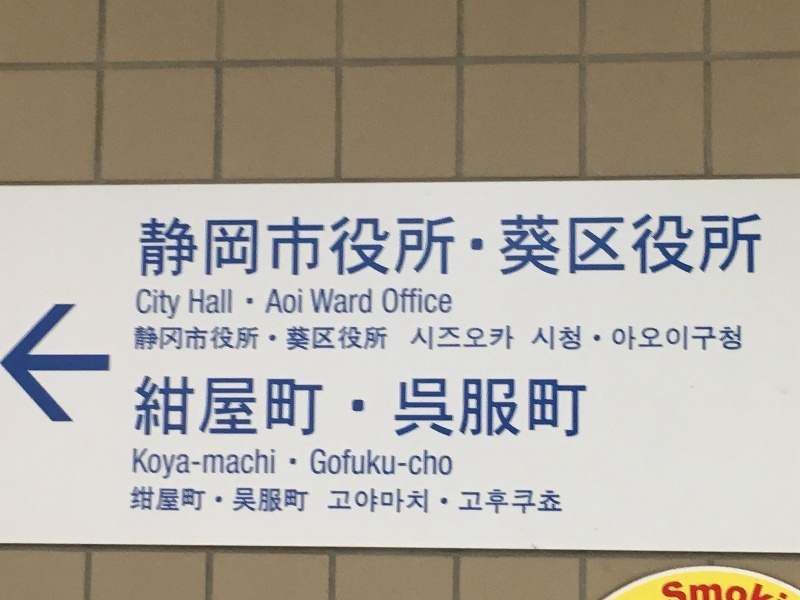text: (513, 213, 528, 276), (529, 213, 544, 276), (545, 213, 560, 276), (561, 213, 576, 276), (577, 213, 592, 276), (593, 213, 608, 276), (609, 213, 624, 276), (625, 213, 640, 276), (641, 213, 656, 276), (657, 213, 672, 276), (673, 213, 688, 276), (689, 213, 704, 276), (705, 213, 720, 276), (721, 213, 736, 276), (737, 213, 752, 276), (145, 375, 160, 437), (161, 375, 176, 437), (177, 375, 192, 437), (193, 375, 208, 437), (209, 375, 224, 437), (225, 375, 240, 437), (241, 375, 256, 437), (257, 375, 272, 437), (273, 375, 288, 437), (289, 375, 304, 437), (305, 375, 320, 437), (145, 216, 160, 277), (161, 216, 176, 277), (177, 216, 192, 277), (193, 216, 208, 277), (209, 216, 224, 277), (225, 216, 240, 277), (241, 216, 256, 277), (257, 216, 272, 277), (273, 216, 288, 277), (289, 216, 304, 277), (305, 216, 320, 277), (321, 216, 336, 277), (337, 216, 352, 277), (353, 216, 368, 277), (369, 216, 384, 277), (385, 216, 400, 277), (401, 216, 416, 277), (417, 216, 432, 277), (433, 216, 448, 277), (401, 378, 416, 436), (417, 378, 432, 436), (433, 378, 448, 436), (449, 378, 464, 436), (465, 378, 480, 436), (481, 378, 496, 436), (497, 378, 512, 436), (513, 378, 528, 436), (529, 378, 544, 436), (545, 378, 560, 436), (561, 378, 576, 436), (501, 213, 512, 276), (753, 213, 762, 276), (135, 375, 144, 437), (577, 378, 586, 436), (449, 216, 457, 277), (145, 288, 160, 319), (161, 288, 176, 319), (145, 448, 160, 479), (161, 448, 176, 479), (177, 448, 192, 479), (193, 448, 208, 479), (209, 448, 224, 479), (225, 448, 240, 479), (241, 448, 256, 479), (257, 448, 272, 479), (321, 449, 336, 477), (337, 449, 352, 477), (353, 449, 368, 477), (369, 449, 384, 477), (385, 449, 400, 477), (401, 449, 416, 477), (417, 449, 432, 477), (433, 449, 448, 477), (321, 288, 336, 314), (337, 288, 352, 314), (353, 288, 368, 314), (465, 489, 480, 515), (481, 489, 496, 515), (497, 489, 512, 515), (513, 489, 528, 515), (529, 489, 544, 515), (545, 489, 560, 515), (193, 288, 208, 313), (209, 288, 224, 313), (273, 289, 288, 314), (385, 288, 400, 313), (401, 288, 416, 313), (417, 288, 432, 313), (433, 288, 448, 313), (289, 326, 304, 351), (305, 326, 320, 351), (321, 326, 336, 351), (337, 326, 352, 351), (353, 326, 368, 351), (369, 326, 384, 351), (625, 325, 640, 350), (641, 325, 656, 350), (657, 325, 672, 350), (673, 325, 688, 350), (689, 325, 704, 350), (705, 325, 720, 350), (721, 325, 736, 350), (145, 486, 160, 511), (161, 486, 176, 511), (177, 486, 192, 511), (241, 488, 256, 513), (257, 488, 272, 513), (273, 488, 288, 513), (289, 488, 304, 513), (145, 326, 160, 350), (161, 326, 176, 350), (177, 326, 192, 350), (193, 326, 208, 350), (209, 326, 224, 350), (225, 326, 240, 350), (241, 326, 256, 350), (417, 326, 432, 350), (433, 326, 448, 350), (449, 326, 464, 350), (465, 326, 480, 350), (481, 326, 496, 350), (497, 326, 512, 350), (545, 326, 560, 350), (561, 326, 576, 350), (337, 489, 352, 513), (353, 489, 368, 513), (369, 489, 384, 513), (385, 489, 400, 513), (401, 489, 416, 513), (133, 448, 144, 479), (289, 289, 302, 314), (131, 486, 144, 511), (193, 486, 206, 511), (612, 325, 624, 350), (532, 326, 544, 350), (417, 489, 429, 513), (309, 288, 320, 314), (310, 449, 320, 477), (673, 583, 688, 600), (689, 583, 704, 600), (705, 583, 720, 600), (721, 583, 736, 600), (737, 583, 752, 600), (753, 583, 768, 600), (769, 583, 784, 600), (140, 216, 144, 277), (134, 326, 144, 350), (396, 378, 400, 436), (137, 288, 144, 319), (225, 288, 232, 313), (662, 583, 672, 600), (409, 326, 416, 350), (329, 489, 336, 513), (234, 488, 240, 513), (737, 325, 742, 350), (177, 288, 181, 319), (321, 375, 323, 437), (460, 489, 464, 515), (577, 326, 581, 350), (273, 448, 276, 479), (449, 449, 452, 477), (369, 288, 372, 314), (189, 288, 192, 313), (449, 288, 452, 313), (385, 326, 388, 351), (305, 488, 308, 513), (785, 583, 789, 600), (561, 489, 563, 515), (270, 289, 272, 314), (382, 288, 384, 313), (257, 326, 259, 350), (513, 326, 515, 350), (287, 326, 288, 351)
